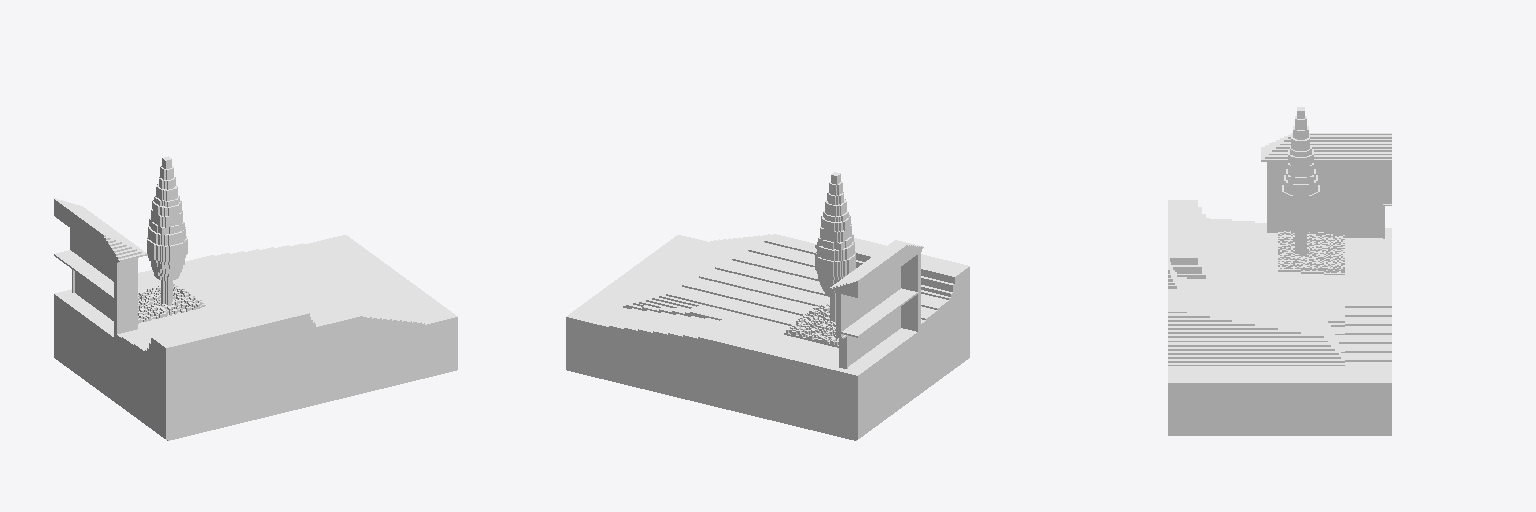
File: castelloVillafranca-30.obj
3 renders of one model, left to right at view 1: azimuth 30°, elevation 25°; view 2: azimuth 150°, elevation 25°; view 3: azimuth 270°, elevation 25°, orthographic.
Parts seen in each view (by area): view 1: object 1; view 2: object 1; view 3: object 1.
Part boxes in pixels (left/top/right/bottom): object 1: left=54, top=156, right=457, bottom=440; object 1: left=566, top=172, right=969, bottom=440; object 1: left=1168, top=107, right=1391, bottom=435.
Size of the model in its own units: 17.7 by 12.6 by 11.8.